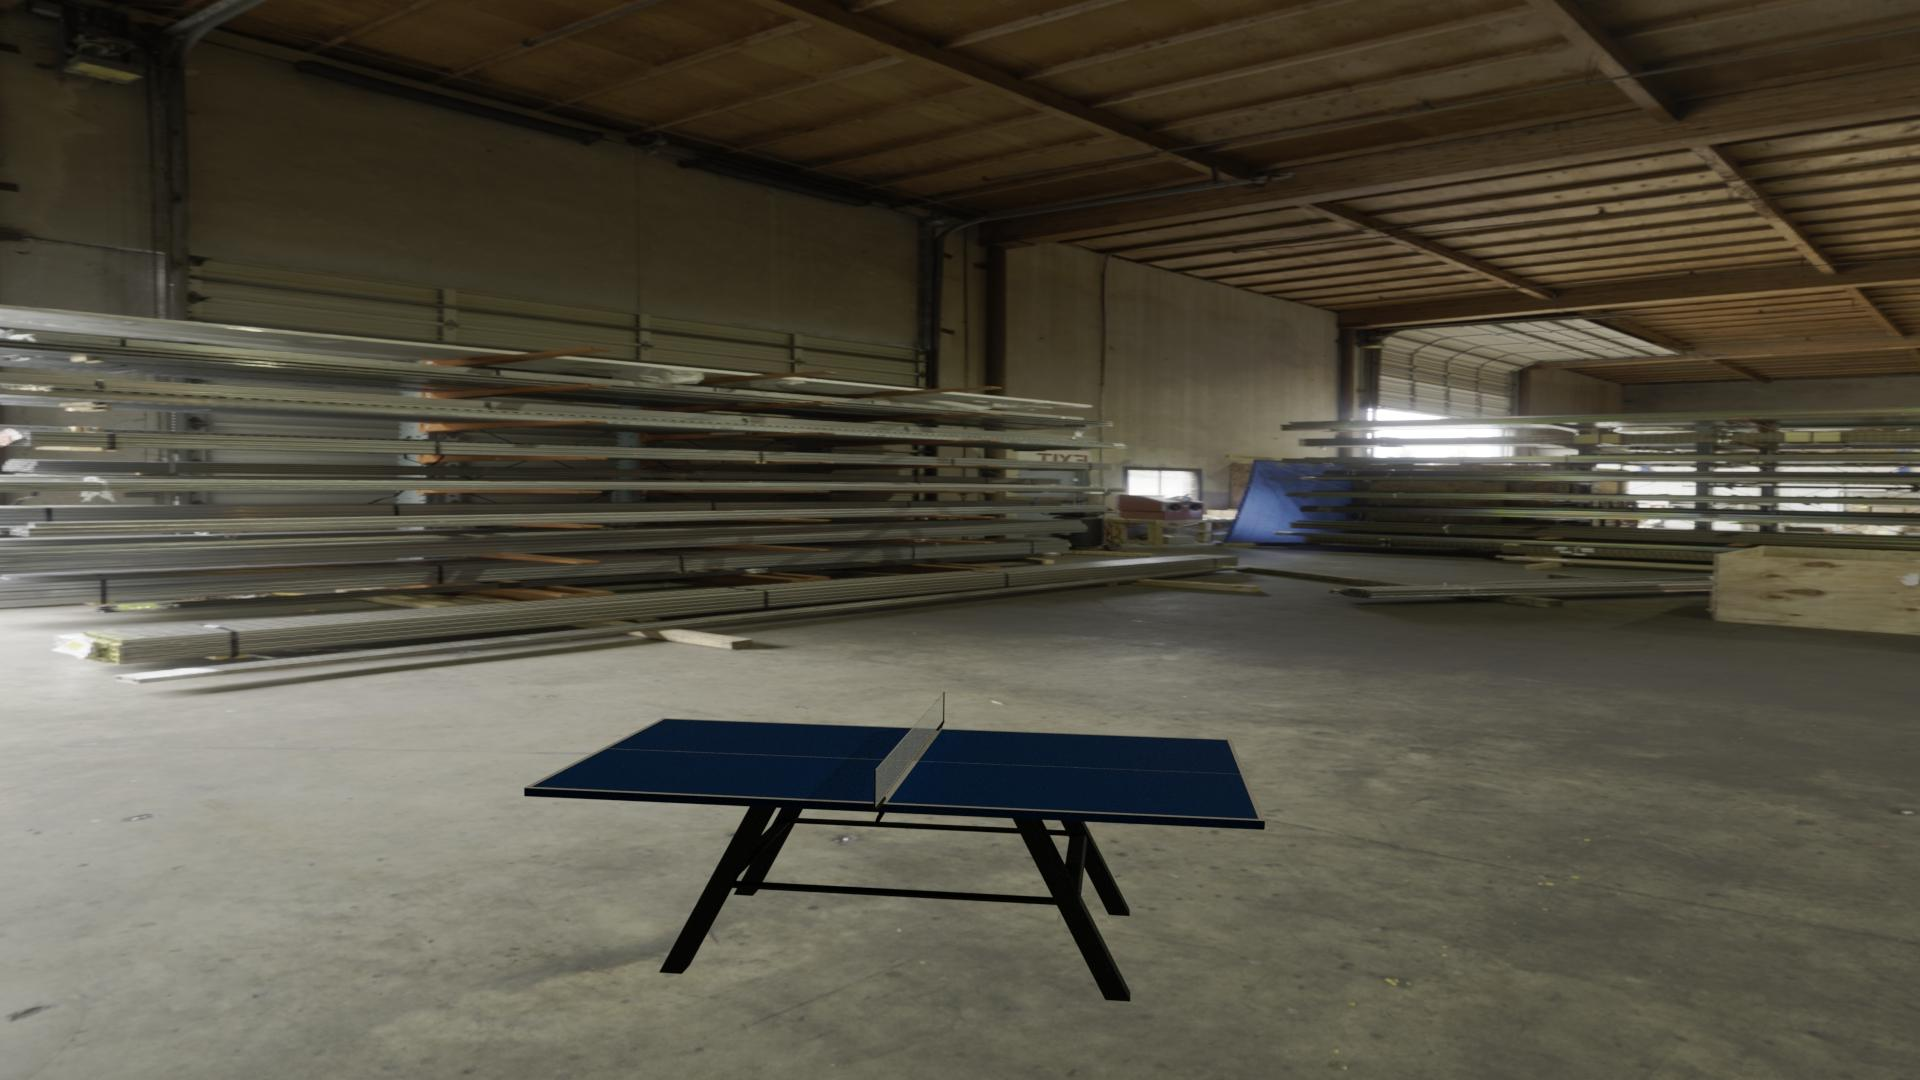table: (531, 719, 1259, 819)
